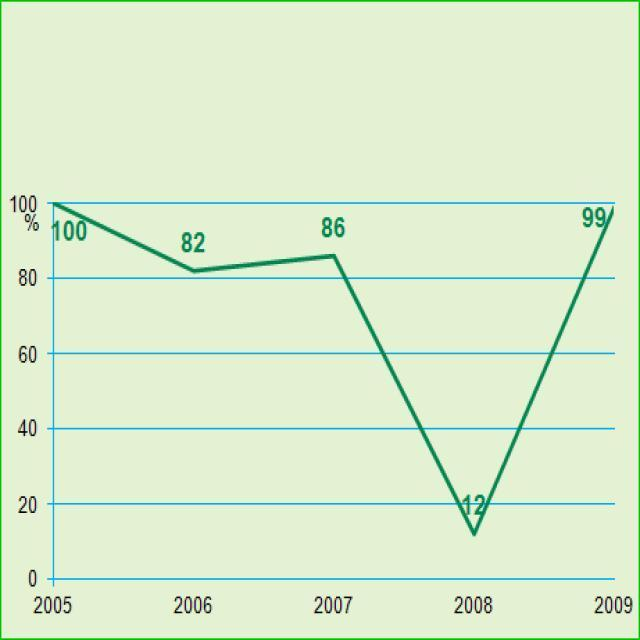axis: (45, 575, 621, 589), (46, 196, 60, 593)
line: (52, 199, 619, 539)
